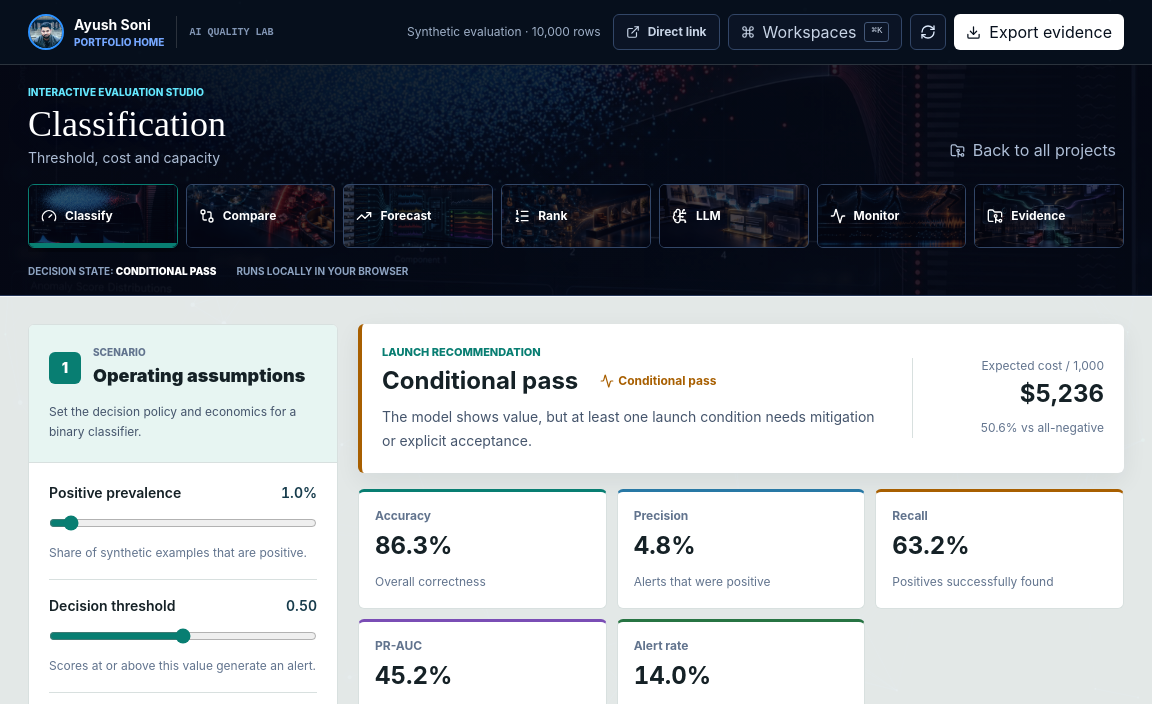
Test: workspace navigation › activates LLM & RAG
Click the tab with aria-label "LLM & RAG". click: (734, 216)
box: [659, 184, 809, 248]
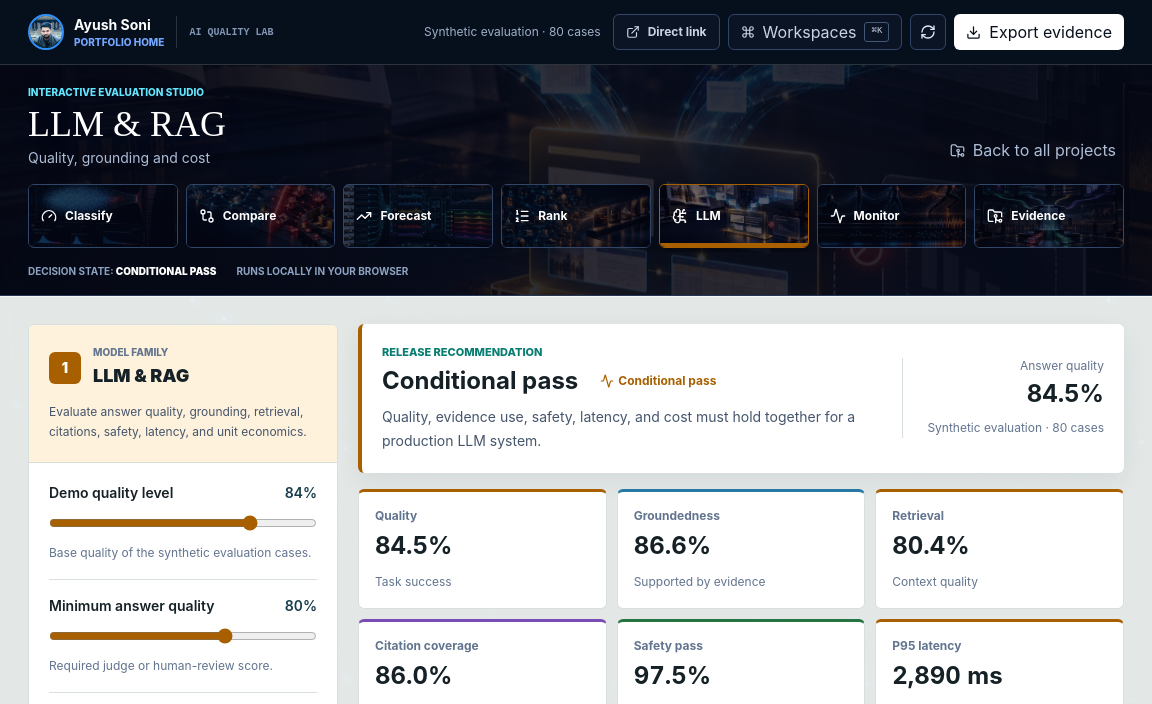
Expected: the heading "LLM & RAG" below "Interactive evaluation studio" is shown, [28, 104, 226, 144]
